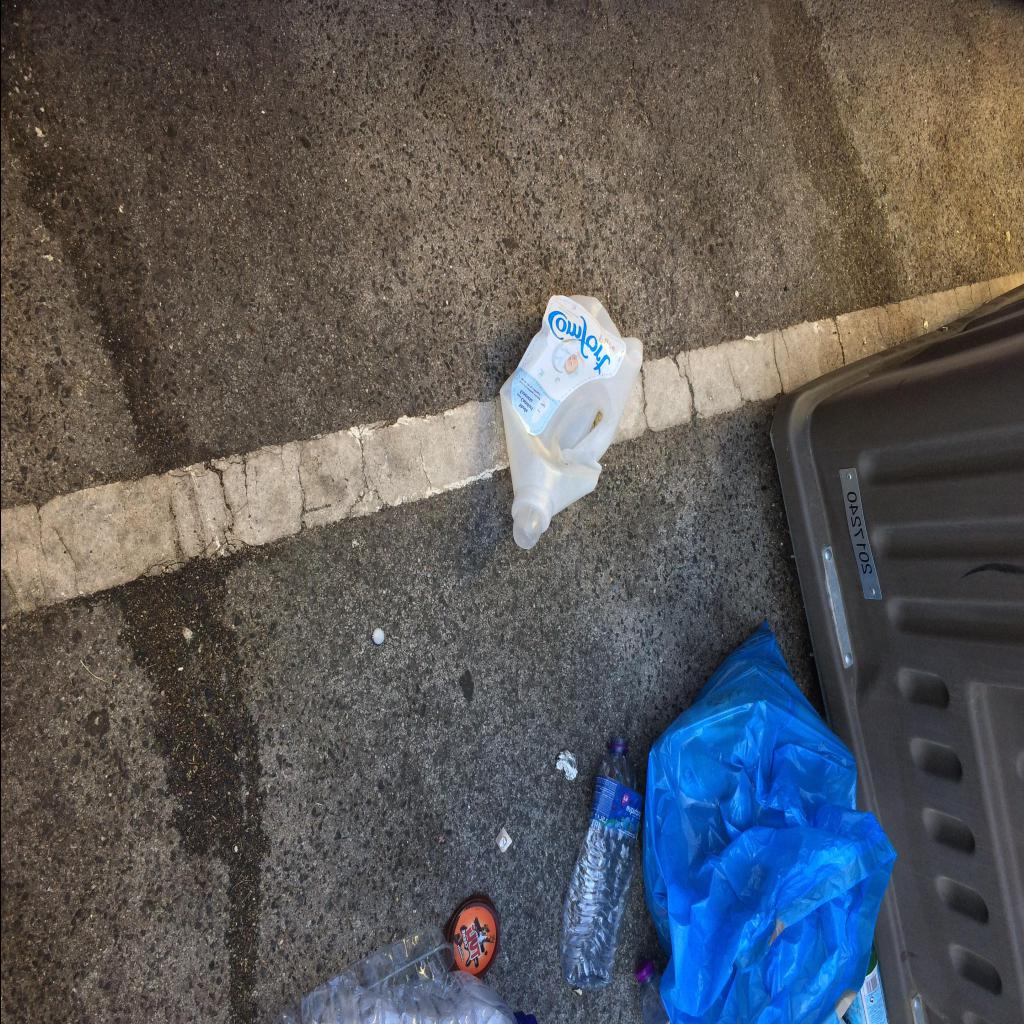Aluminium foil: (556, 748, 576, 780)
Clear plastic bottle: (559, 737, 643, 989), (270, 970, 536, 1024), (632, 958, 670, 1023)
Garbage bag: (642, 620, 897, 1023)
Metal bottle cap: (372, 628, 384, 646)
Other plastic wrapper: (840, 944, 890, 1023)
Plastic bottle cap: (510, 493, 550, 550), (632, 958, 652, 982)
Plastic lid: (444, 894, 499, 977)
Unlabeled litter: (494, 828, 512, 852)
